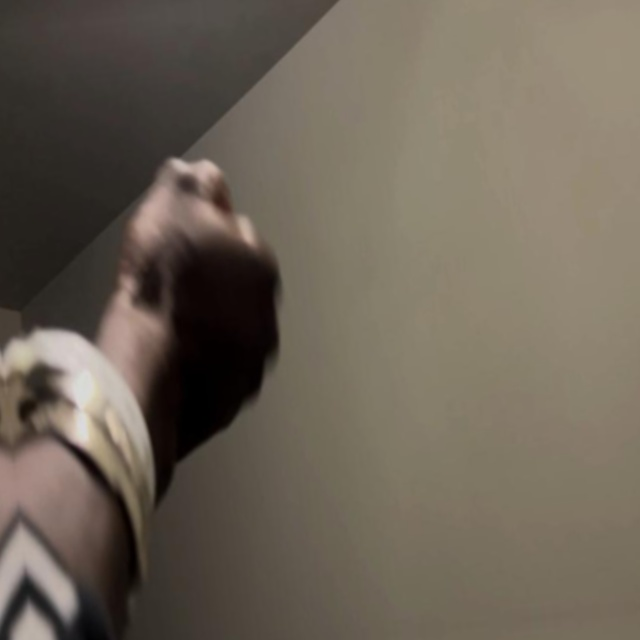Rock: (92, 145, 302, 481)
